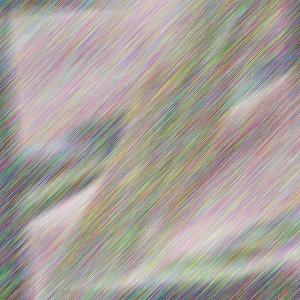Brown_Spot: (122, 193, 200, 259), (139, 78, 177, 109), (130, 103, 164, 136), (116, 166, 144, 199), (88, 171, 118, 195)
